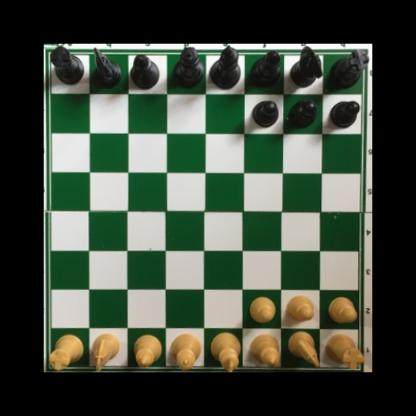black-bishop: (250, 50, 281, 89), (128, 54, 159, 89)
black-king: (209, 44, 242, 89)
black-knight: (291, 44, 324, 89), (89, 46, 122, 88)
black-pawn: (288, 97, 318, 129), (327, 98, 360, 127), (251, 97, 280, 127)
black-queen: (174, 46, 205, 91)
black-rook: (329, 45, 369, 87), (48, 45, 85, 85)
white-bishop: (134, 332, 164, 372), (249, 331, 281, 367)
white-king: (210, 331, 240, 372)
white-knight: (286, 329, 319, 368), (88, 334, 120, 372)
white-pawn: (285, 294, 314, 321), (327, 295, 357, 321), (248, 294, 274, 322)
white-queen: (168, 331, 202, 372)
white-rook: (44, 333, 85, 372), (324, 331, 363, 370)
